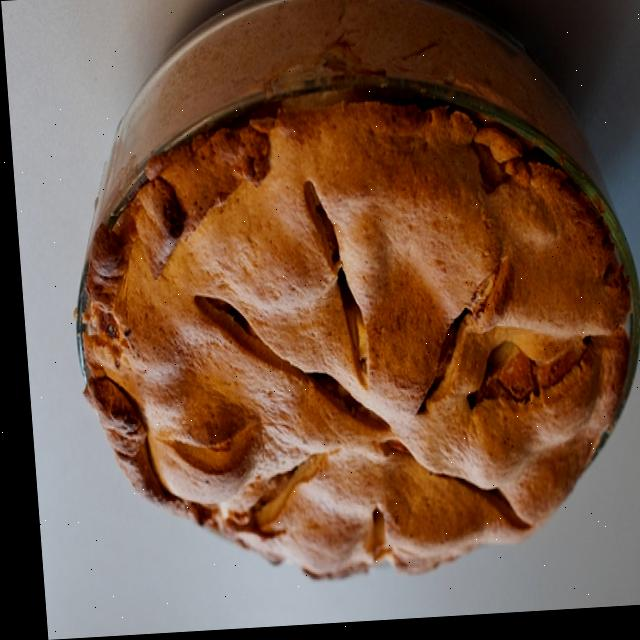炸货点心: (44, 36, 640, 597)
蛋糕甜品: (44, 36, 640, 597)
